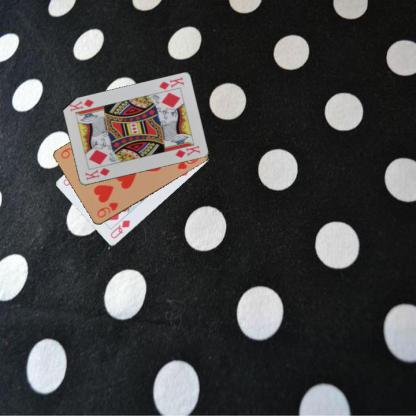9h: (94, 200, 120, 219)
Kd: (156, 74, 185, 92), (83, 166, 111, 182)
Qd: (108, 218, 131, 240)
